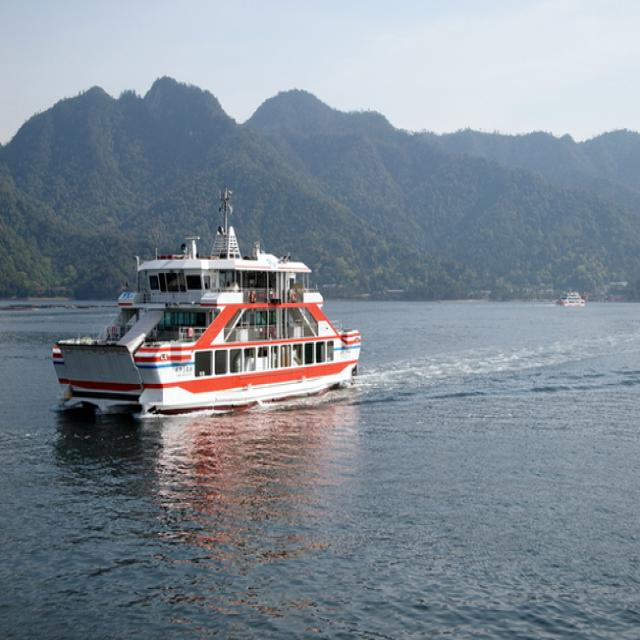houseboat: (53, 201, 369, 437)
